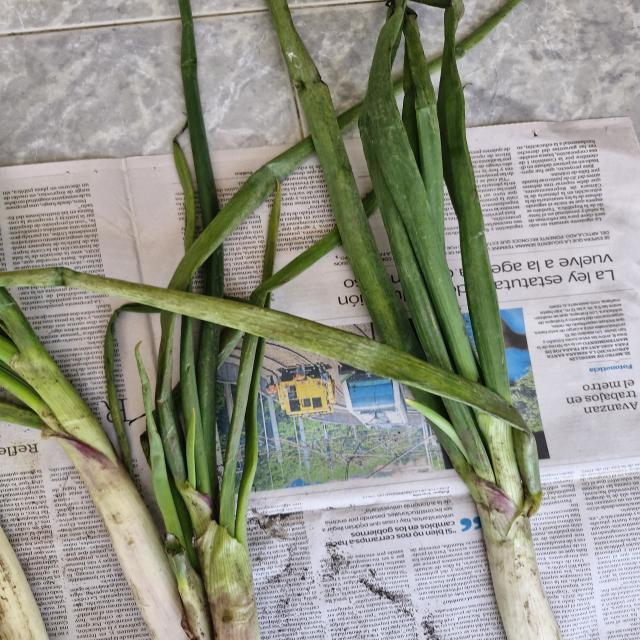green_onion: (302, 126, 588, 638)
